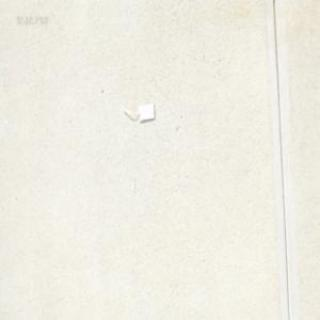LuggageTagtrack_idkeyframe: (118, 100, 154, 121)
